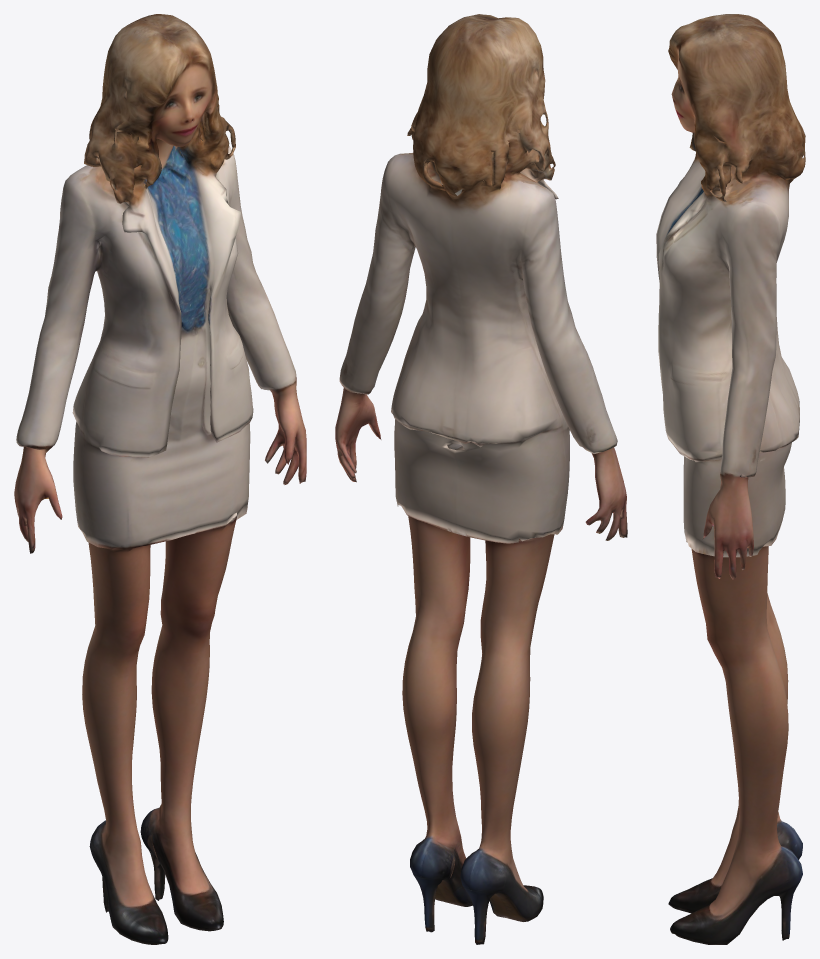
File: Lucy_Stillman_wearing_0217230006.glb
3 renders of one model, left to right at view 1: azimuth 30°, elevation 25°; view 2: azimuth 150°, elevation 25°; view 3: azimuth 270°, elevation 25°, orthographic.
Bounding box in the file's own units: 0.6604 × 2.01 × 0.2993.
Materials: 1 (1 with a texture image).
